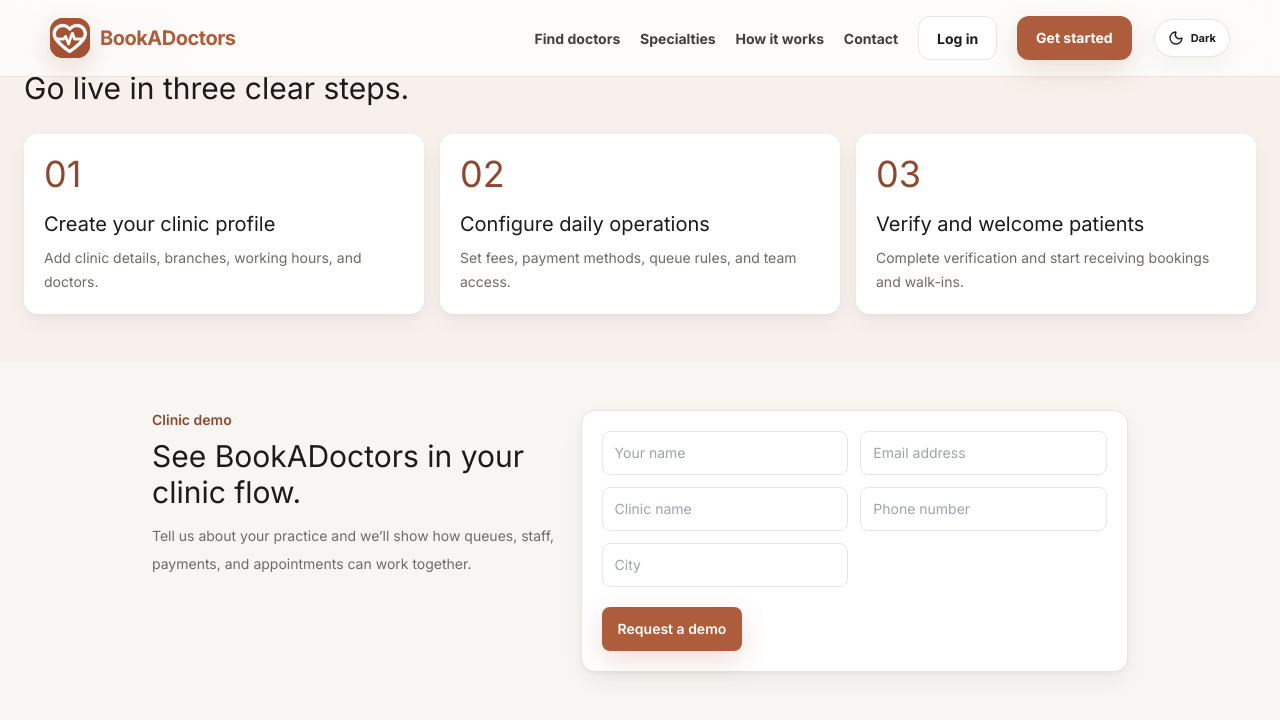
ProviderLanding › shows the real error message when the demo request submission fails
The width and height of the screenshot is (1280, 720).
(page scrolled)
In the field labelled "Your name": (725, 453) [602,431,848,475], type "Dr. Priya Nair"
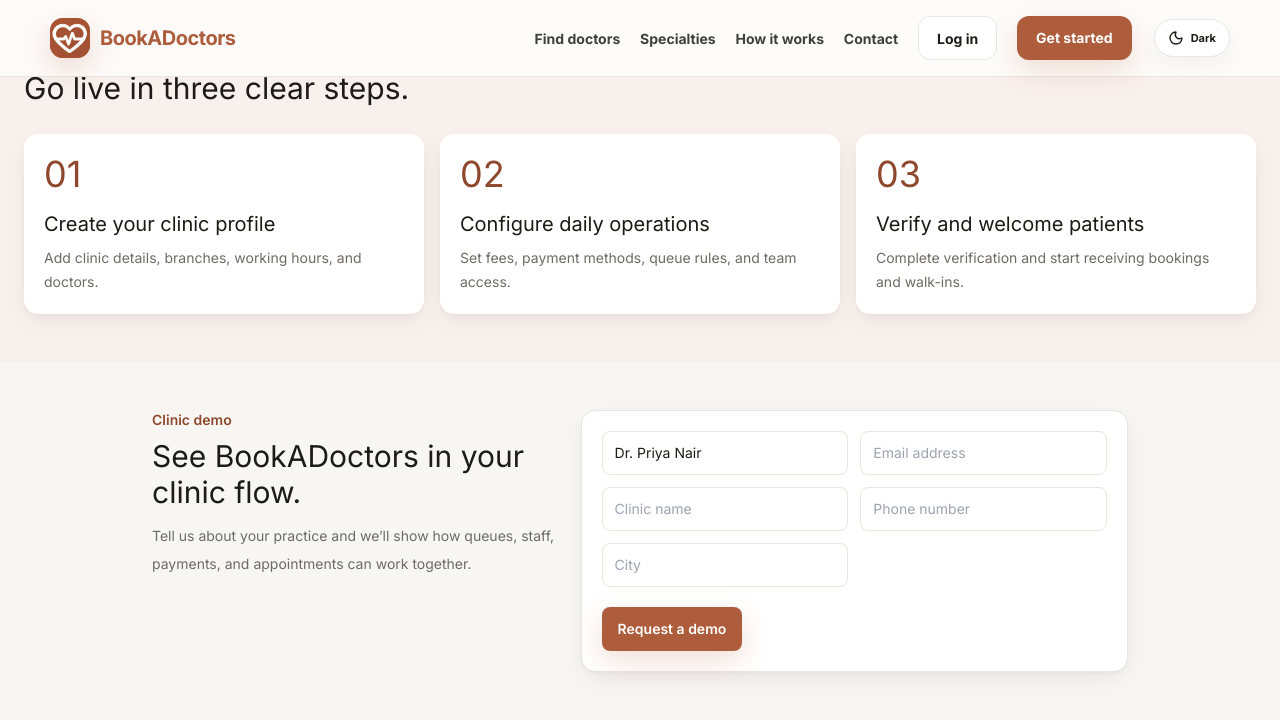
In the field labelled "Email address": (984, 453) [860,431,1107,475], type "priya@example.com"
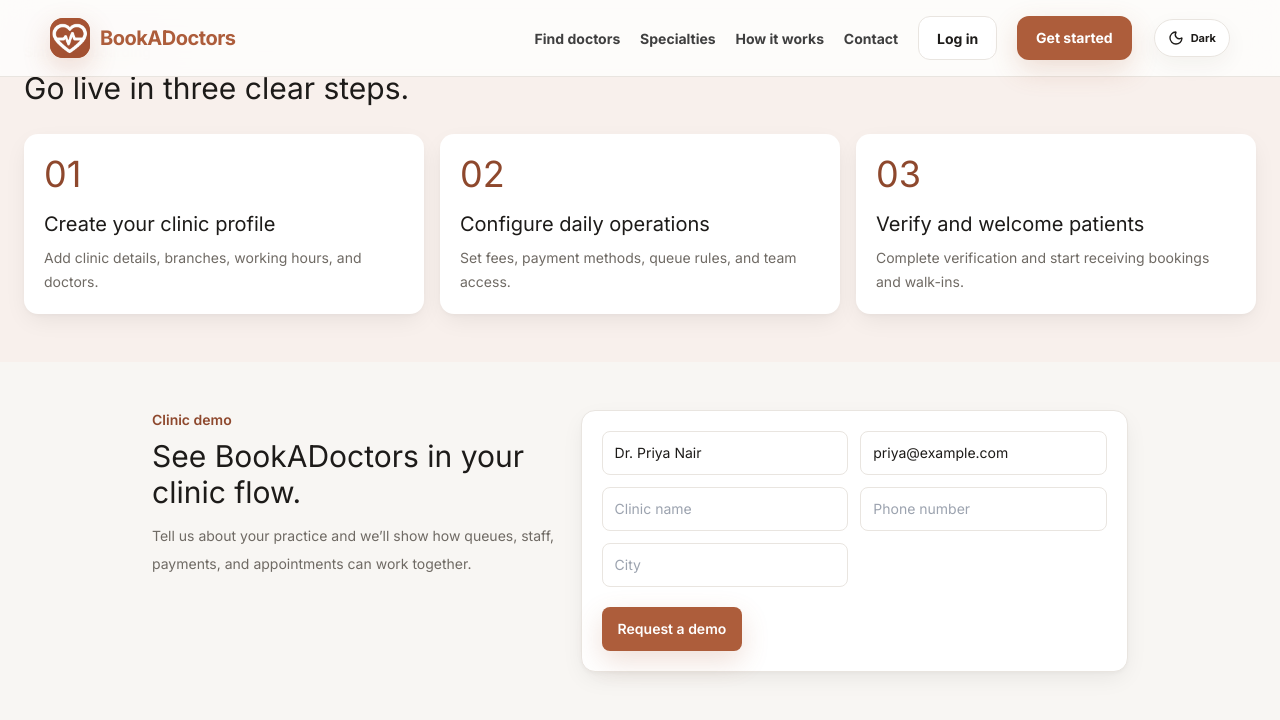
In the field labelled "Clinic name": (725, 509) [602,487,848,531], type "Nair Clinic"
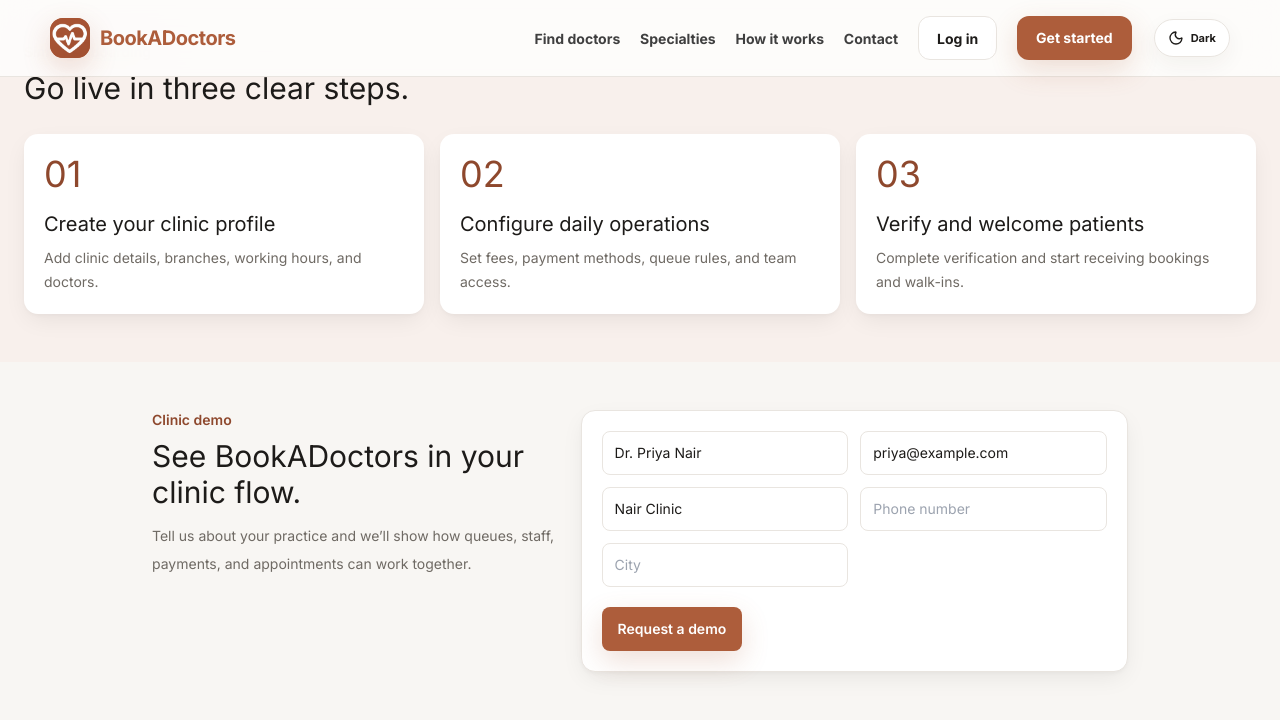
In the field labelled "Phone number": (984, 509) [860,487,1107,531], type "9990001111"
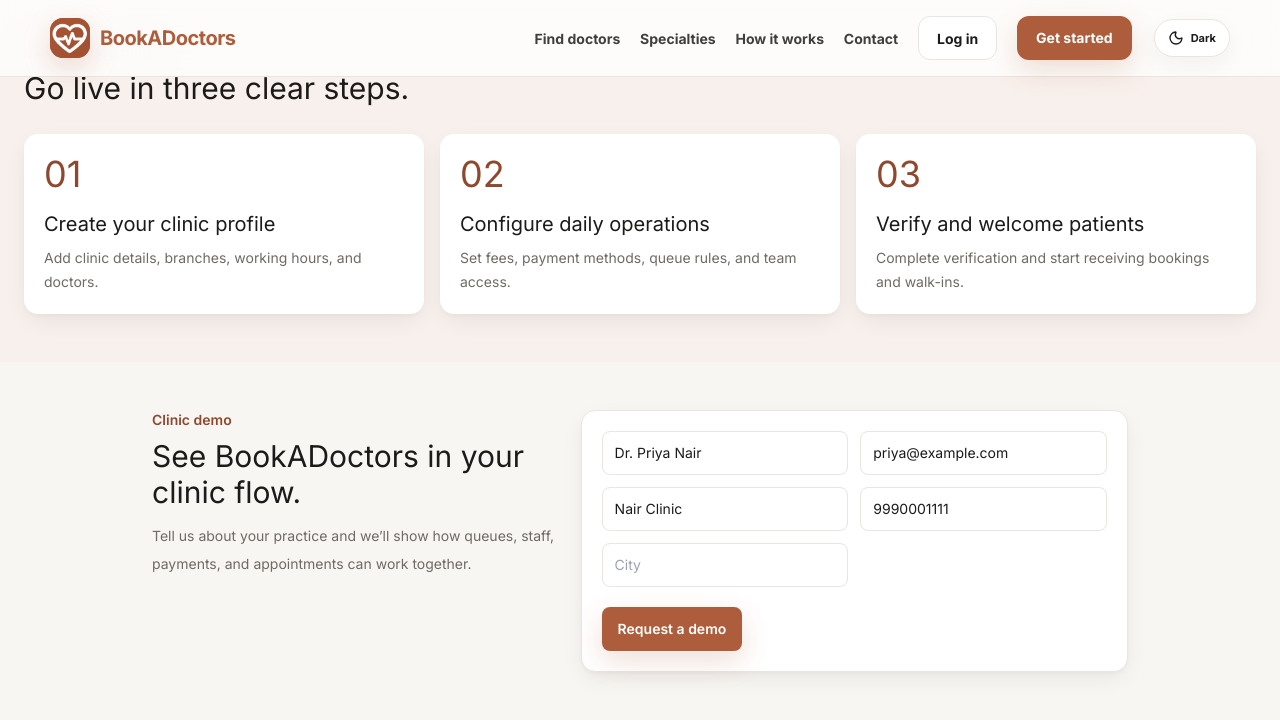
In the field labelled "City": (725, 565) [602,543,848,587], type "Pune"
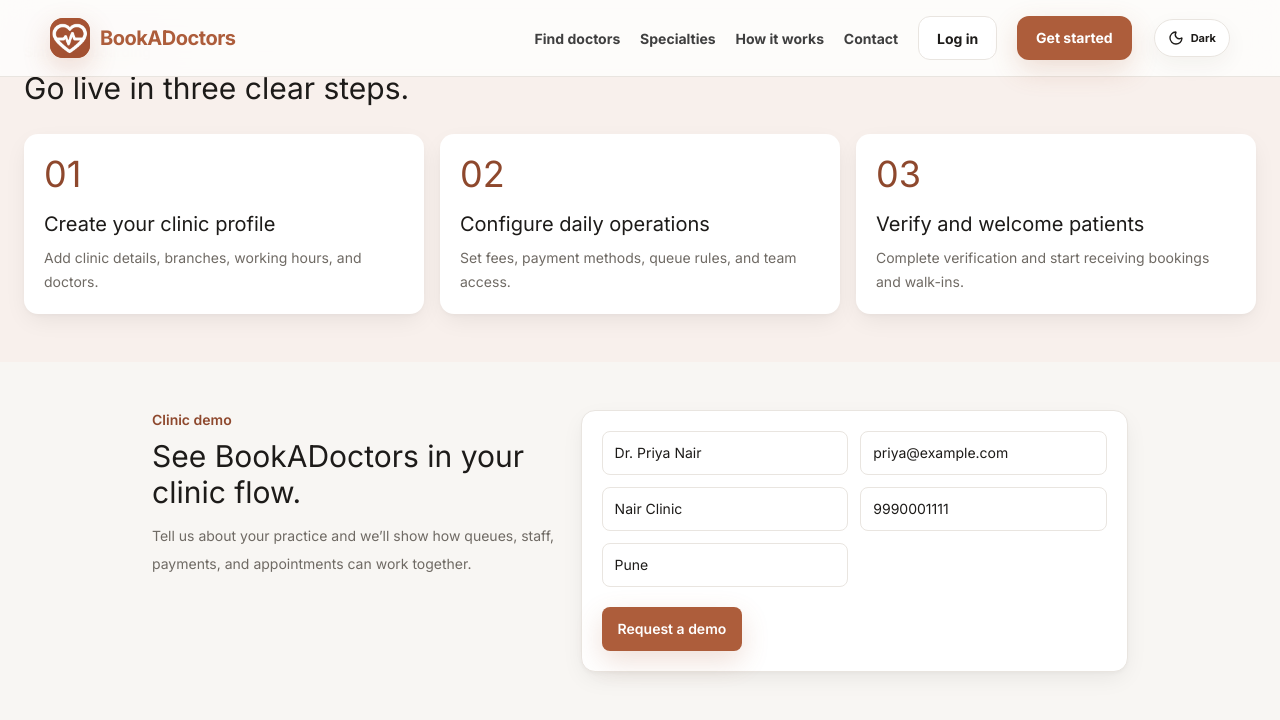
Click the button "Request a demo": (672, 629) [602,607,742,651]
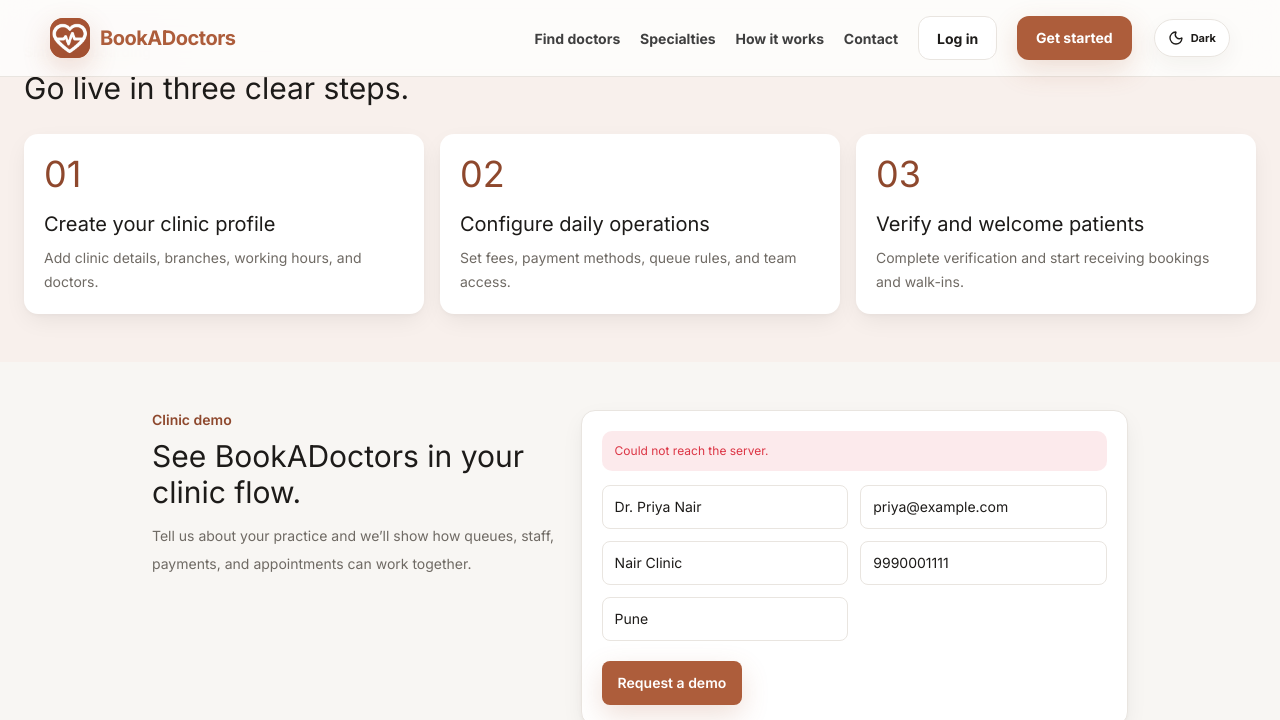
Now the message reads "Could not reach the server.", box [615,443,768,458]
